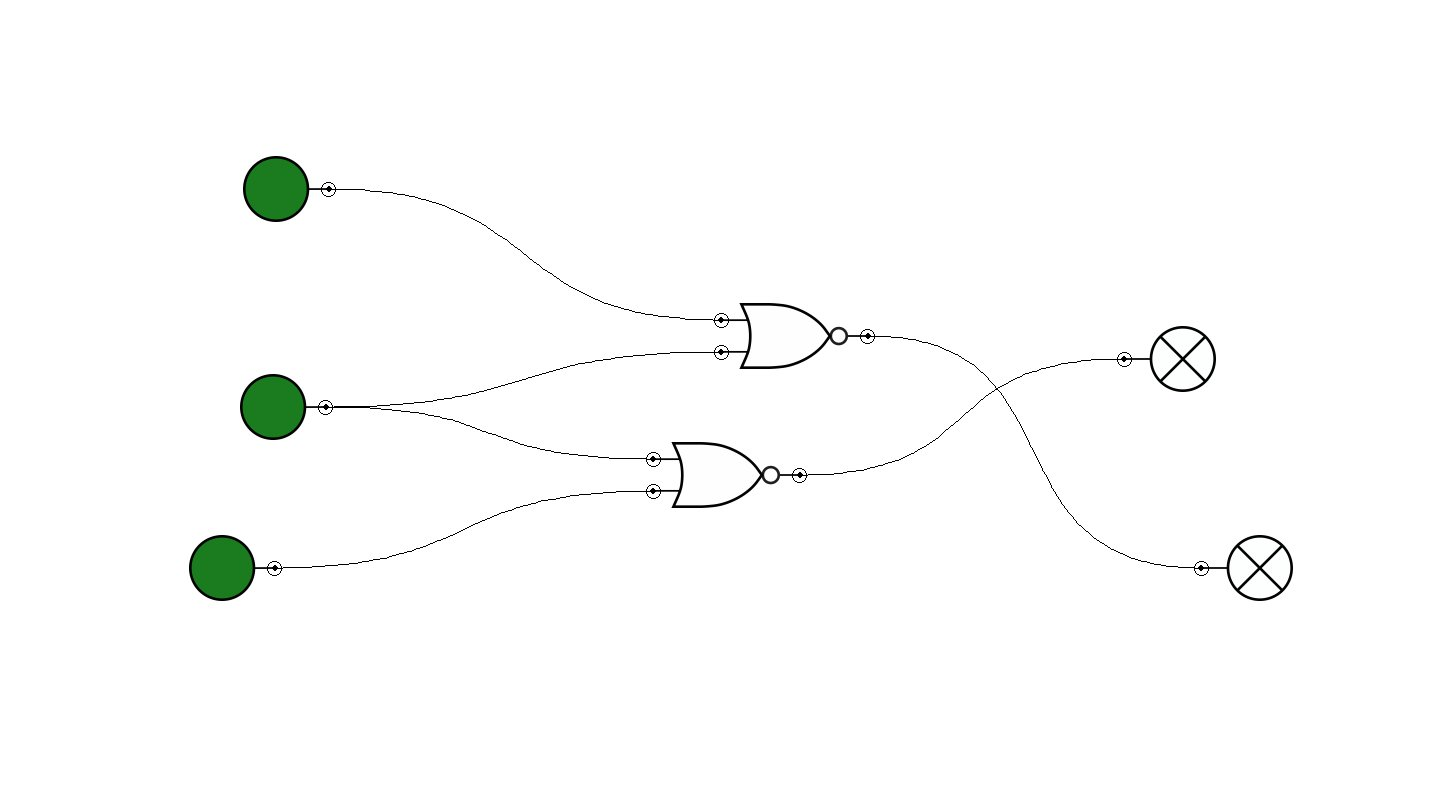bulb: (1194, 535, 1293, 601), (1117, 326, 1216, 392)
nor: (646, 442, 807, 508), (714, 303, 875, 369)
switch_True: (240, 374, 333, 440), (243, 156, 336, 222), (189, 535, 282, 601)
